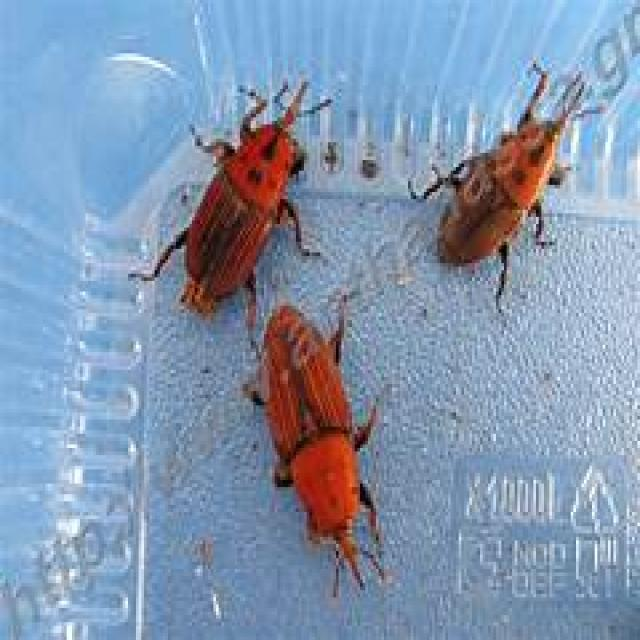Red-palm-weevil: (230, 315, 399, 584), (169, 75, 331, 306), (422, 92, 586, 285)
